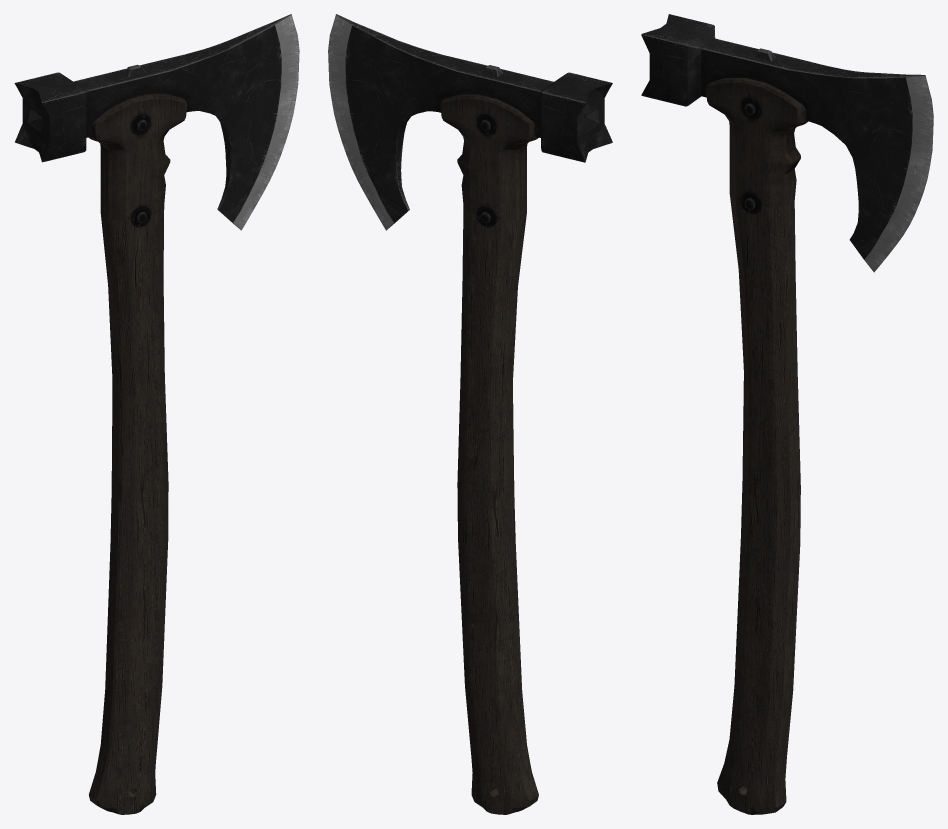
Rendered from AXE.fbx.
The picture shows the model from 3 angles, left to right: view 1: azimuth 30°, elevation 25°; view 2: azimuth 150°, elevation 25°; view 3: azimuth 330°, elevation 25°; orthographic projection. The views are drawn at different scales.
Visible parts, largest first — view 1: katana; view 2: katana; view 3: katana.
Boxes of the visible parts, box(x1,y1,x2,y2) form: katana: box(14, 14, 299, 814); katana: box(328, 14, 612, 814); katana: box(641, 14, 933, 814).
Bounding box in the file's own units: 25.98 × 68.99 × 4.58.
